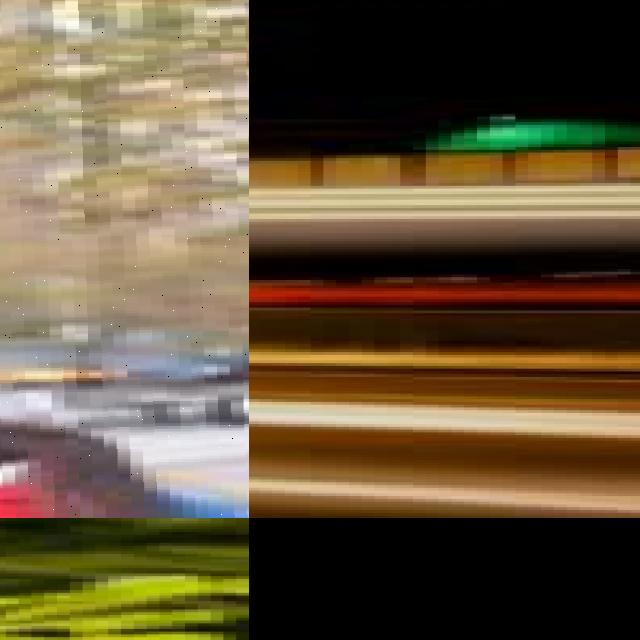street light: (0, 0, 249, 518)
